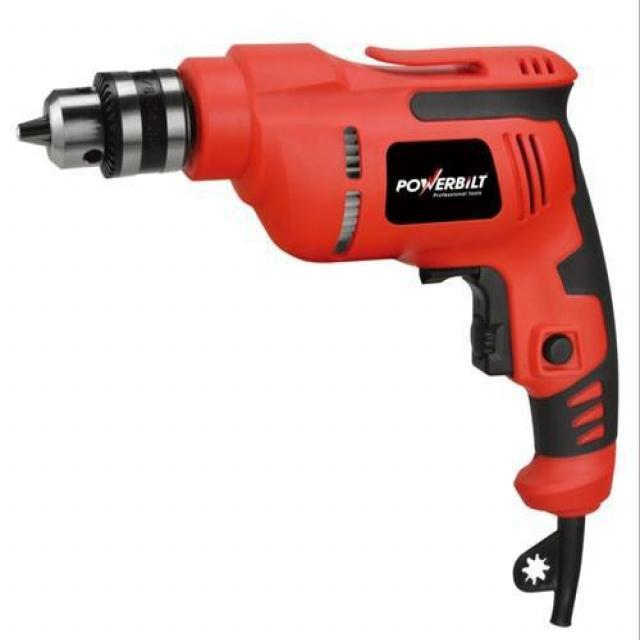drill: (16, 42, 620, 628)
